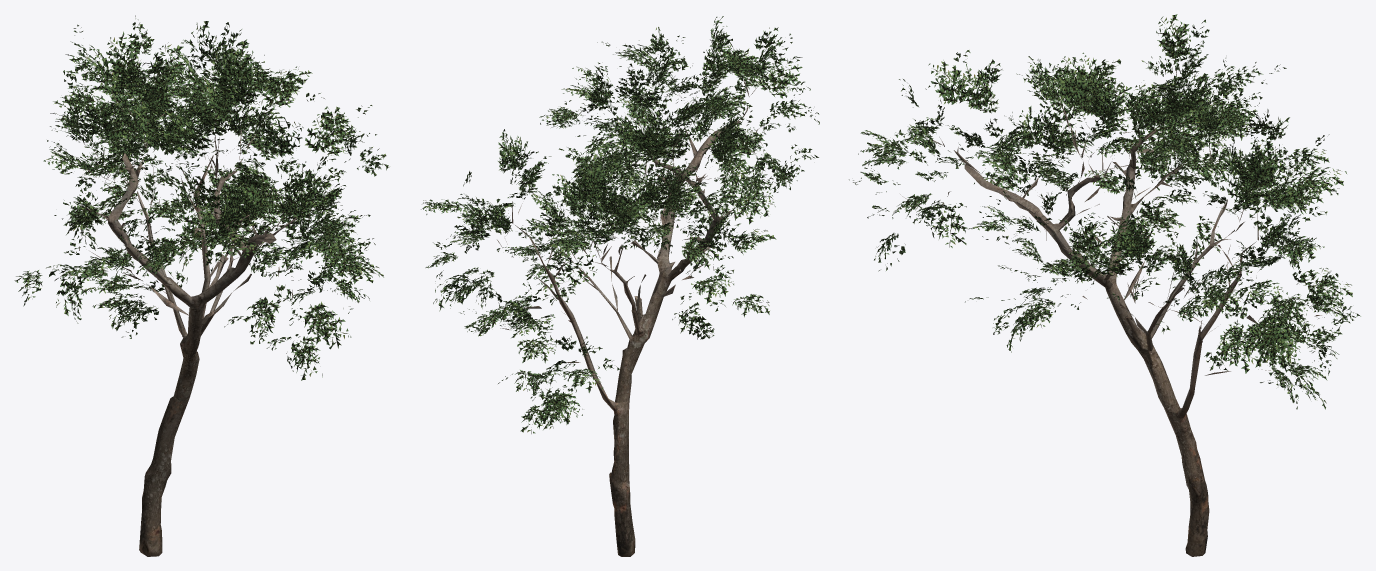
The model's file is broadleaf_tree.glb.
3 renders of one model, left to right at view 1: azimuth 30°, elevation 25°; view 2: azimuth 150°, elevation 25°; view 3: azimuth 270°, elevation 25°, orthographic. The views are drawn at different scales.
Parts seen in each view (by area): view 1: tree_small_02_LOD0; view 2: tree_small_02_LOD0; view 3: tree_small_02_LOD0.
Boxes of the visible parts, <box> form: tree_small_02_LOD0: <box>14,15,389,556</box>; tree_small_02_LOD0: <box>421,16,819,556</box>; tree_small_02_LOD0: <box>849,14,1360,556</box>.
Size of the model in its own units: 2.9 by 4.56 by 4.23.
Materials: 3 (3 with a texture image).
